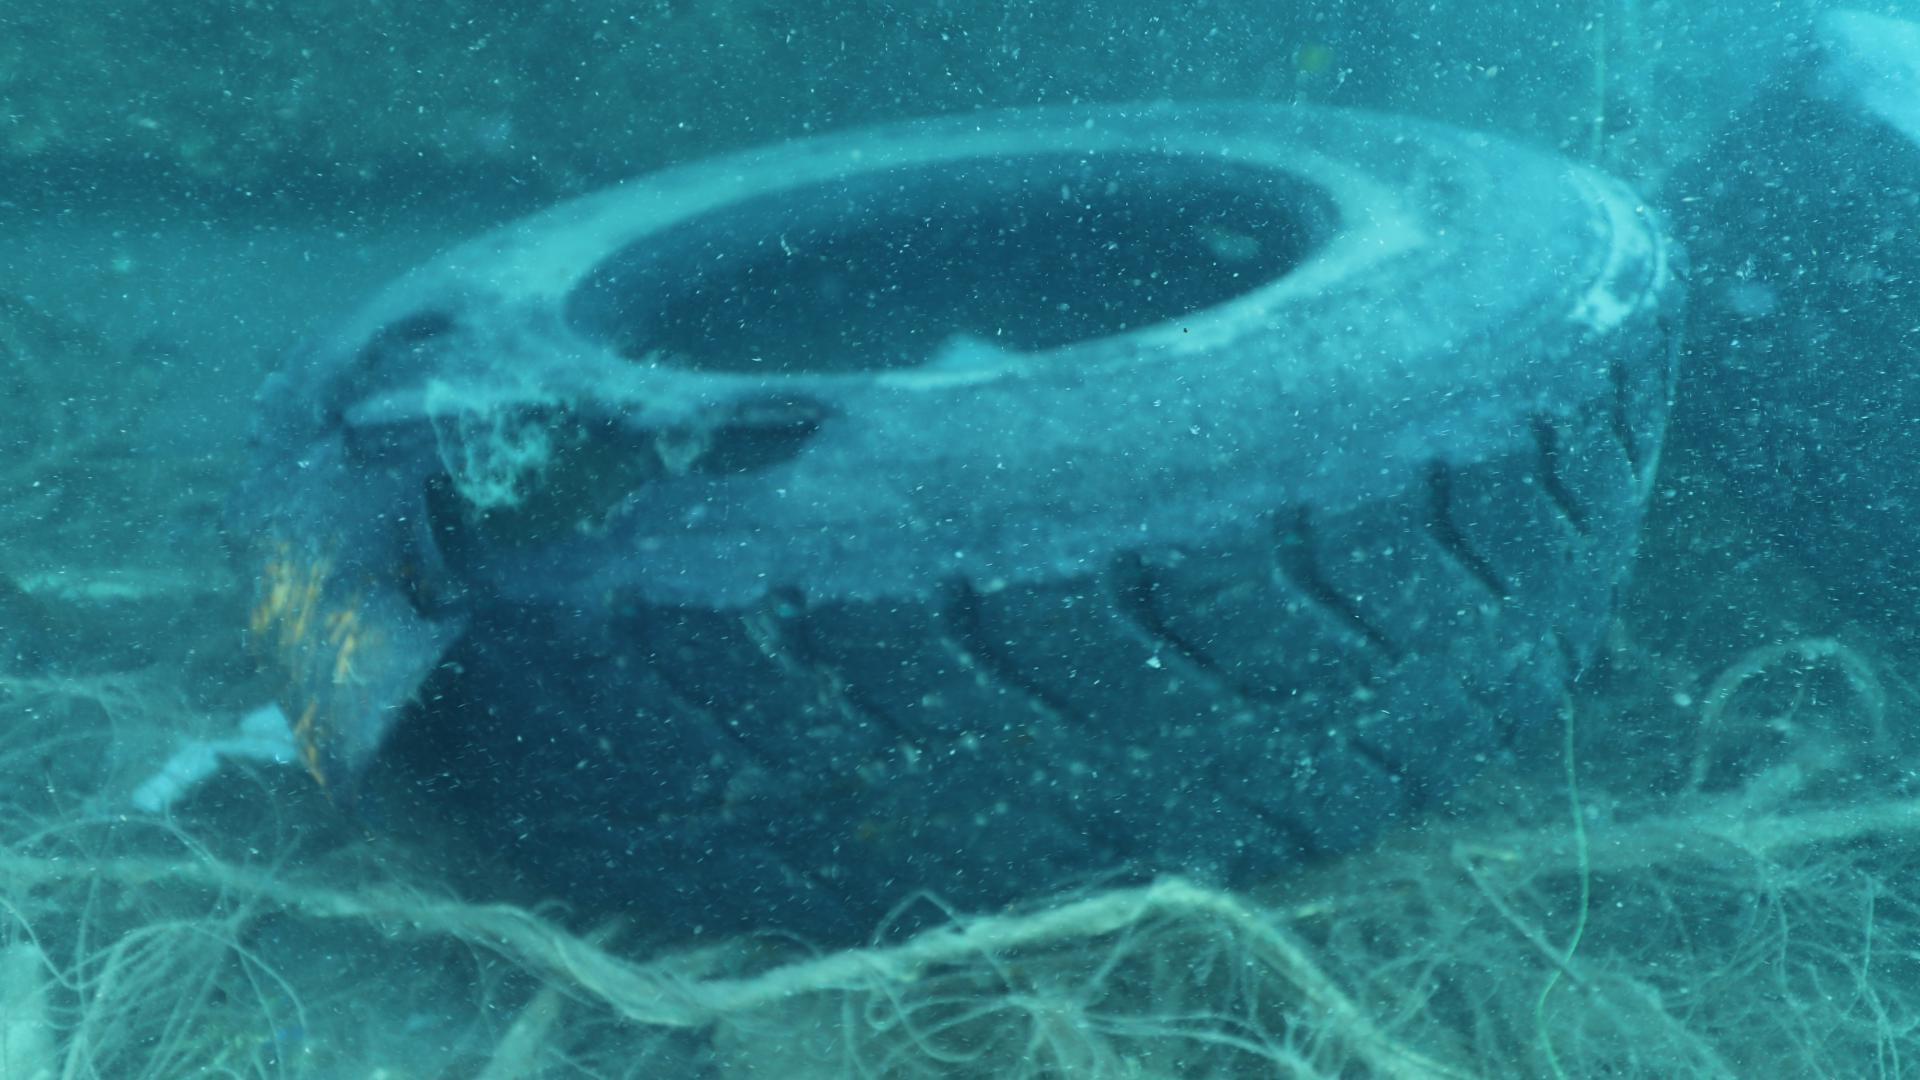bundle of ropes: (1528, 632, 1920, 862)
rope: (0, 847, 1466, 1080)
tire: (293, 96, 1684, 939)
